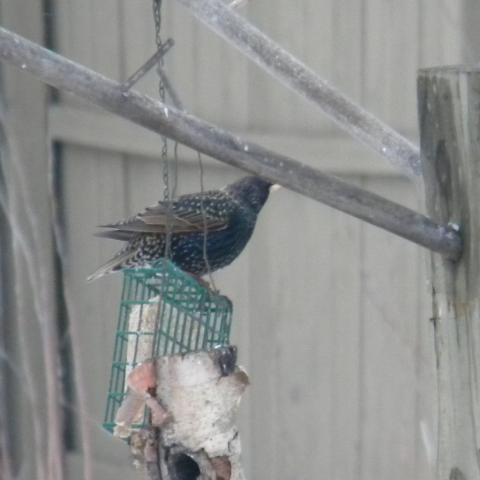bird: (84, 174, 280, 284)
